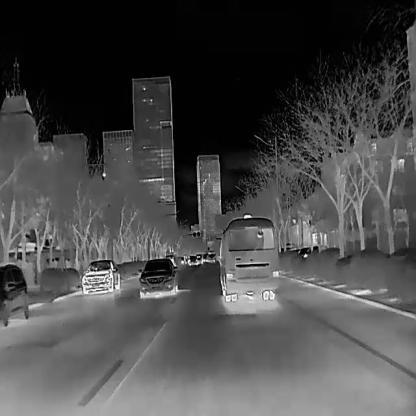car: (215, 213, 278, 301), (0, 262, 29, 326), (137, 257, 178, 298), (80, 258, 121, 294), (187, 254, 197, 264), (196, 253, 203, 264)
